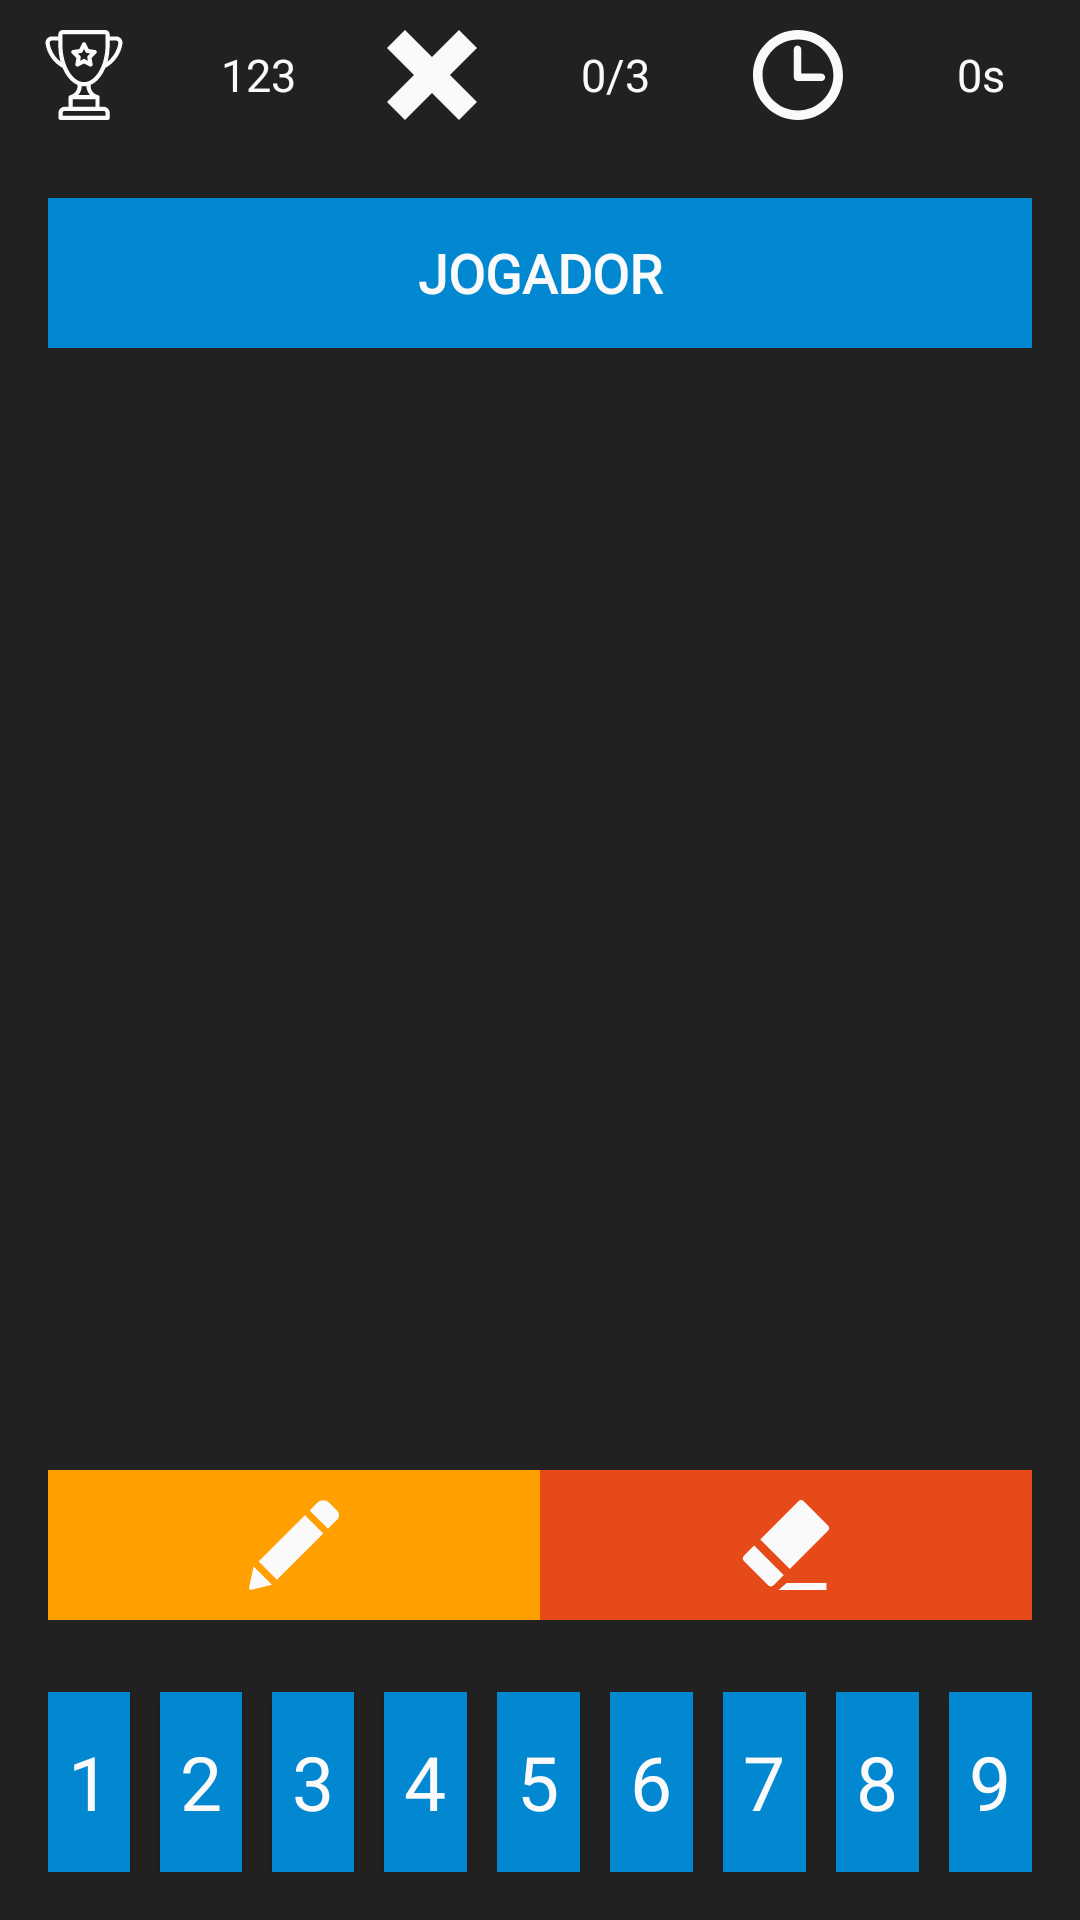

Icons on this 1080w x 1920h Android screen, each with its box as [left=x1, top=y1, right=x2, bottom=y2]:
clock circular: [left=753, top=30, right=843, bottom=120]
error: [left=387, top=30, right=477, bottom=120]
trophy: [left=45, top=30, right=123, bottom=120]
